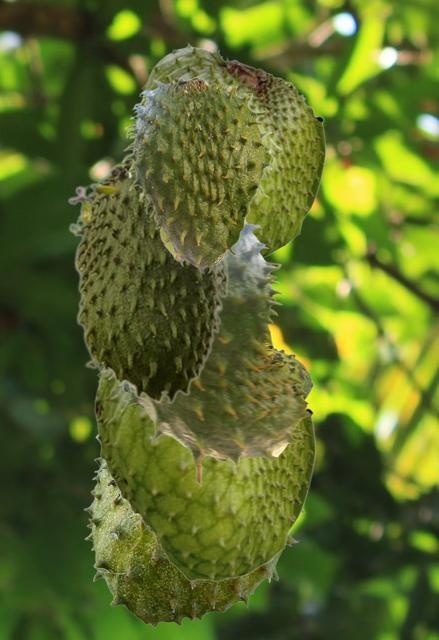guyabano: (107, 220, 310, 485), (94, 373, 315, 581), (83, 434, 304, 626), (68, 151, 230, 403), (141, 42, 325, 257), (121, 76, 281, 273), (123, 348, 312, 408)
